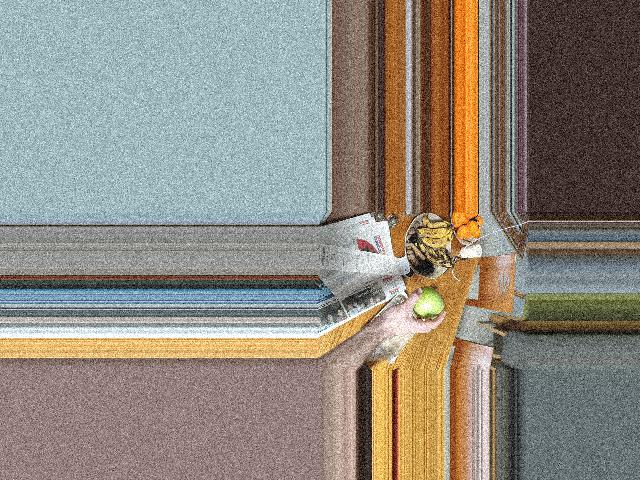apple: (411, 288, 445, 318)
